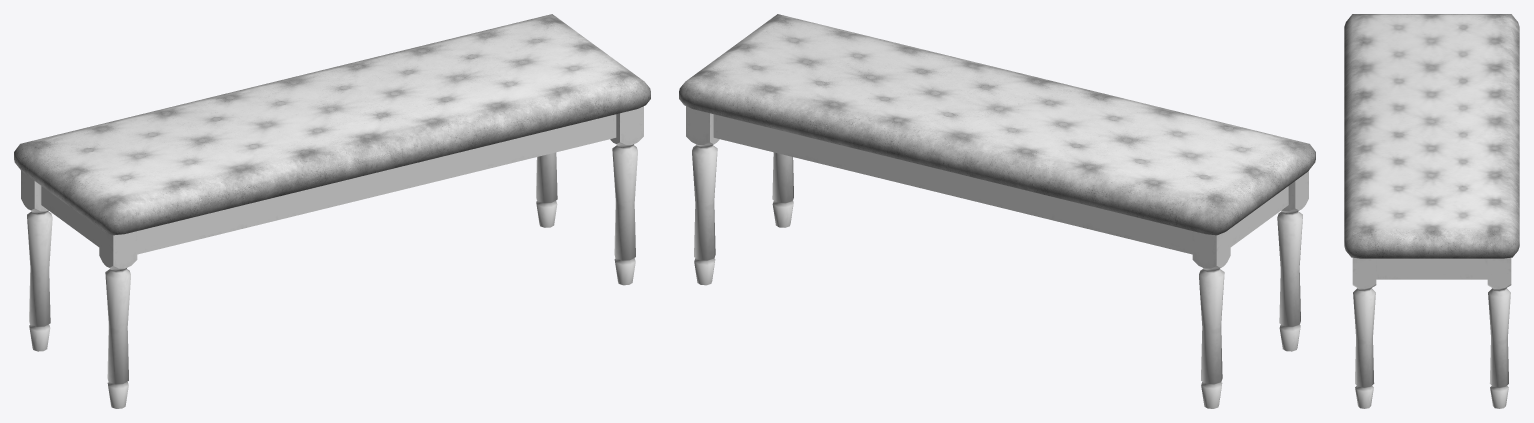
The model's file is PoufBig.FBX.
3 renders of one model, left to right at view 1: azimuth 30°, elevation 25°; view 2: azimuth 150°, elevation 25°; view 3: azimuth 270°, elevation 25°, orthographic. The views are drawn at different scales.
Parts seen in each view (by area): view 1: PoufBig; view 2: PoufBig; view 3: PoufBig.
Boxes of the visible parts, <box> form: PoufBig: <box>14,14,650,408</box>; PoufBig: <box>679,14,1315,408</box>; PoufBig: <box>1344,14,1519,408</box>.
Size of the model in its own units: 126 by 45.27 by 40.55.
